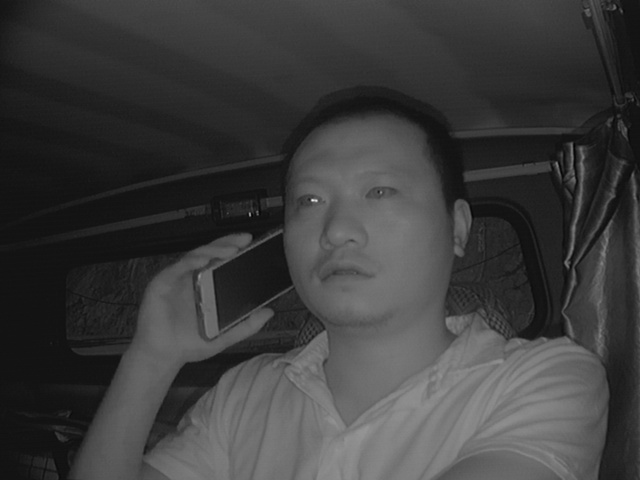hand: (129, 226, 265, 364)
